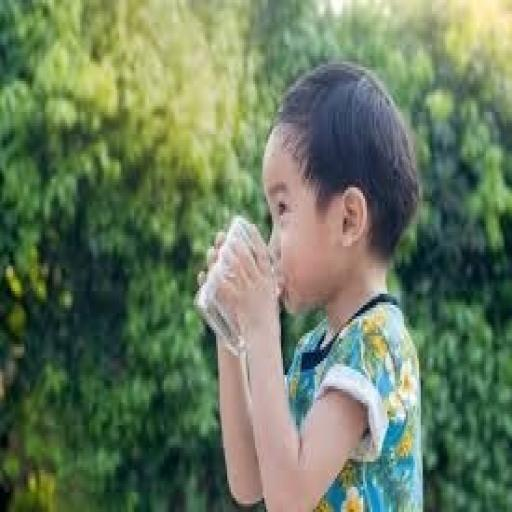drinking: (192, 213, 260, 355)
